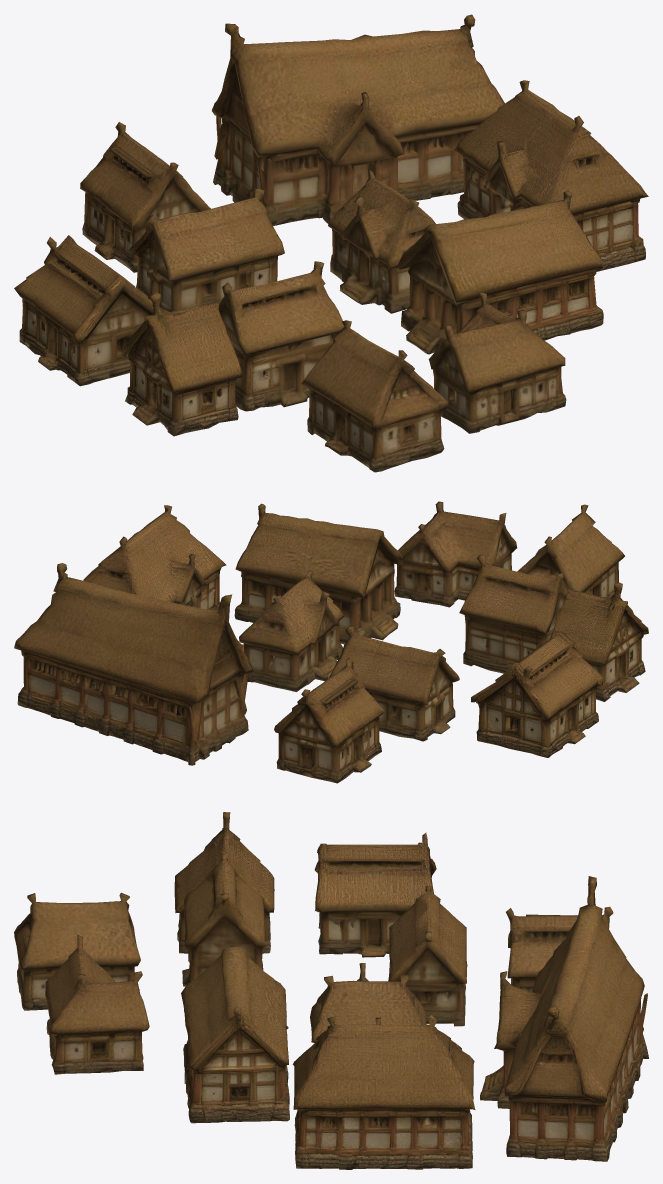
The model's file is Classical Village (Western).fbx.
3 views of the same model, one above another, from view 1: azimuth 30°, elevation 25°; view 2: azimuth 150°, elevation 25°; view 3: azimuth 270°, elevation 25° (orthographic). The views are drawn at different scales.
Visible parts, largest first — view 1: tripo_node_f0b6611c; view 2: tripo_node_f0b6611c; view 3: tripo_node_f0b6611c.
Part boxes in pixels (left/top/right/bottom): tripo_node_f0b6611c: left=14, top=14, right=648, bottom=472; tripo_node_f0b6611c: left=14, top=501, right=648, bottom=783; tripo_node_f0b6611c: left=14, top=812, right=648, bottom=1169.
Bounding box in the file's own units: 0.9633 × 0.3064 × 1.
